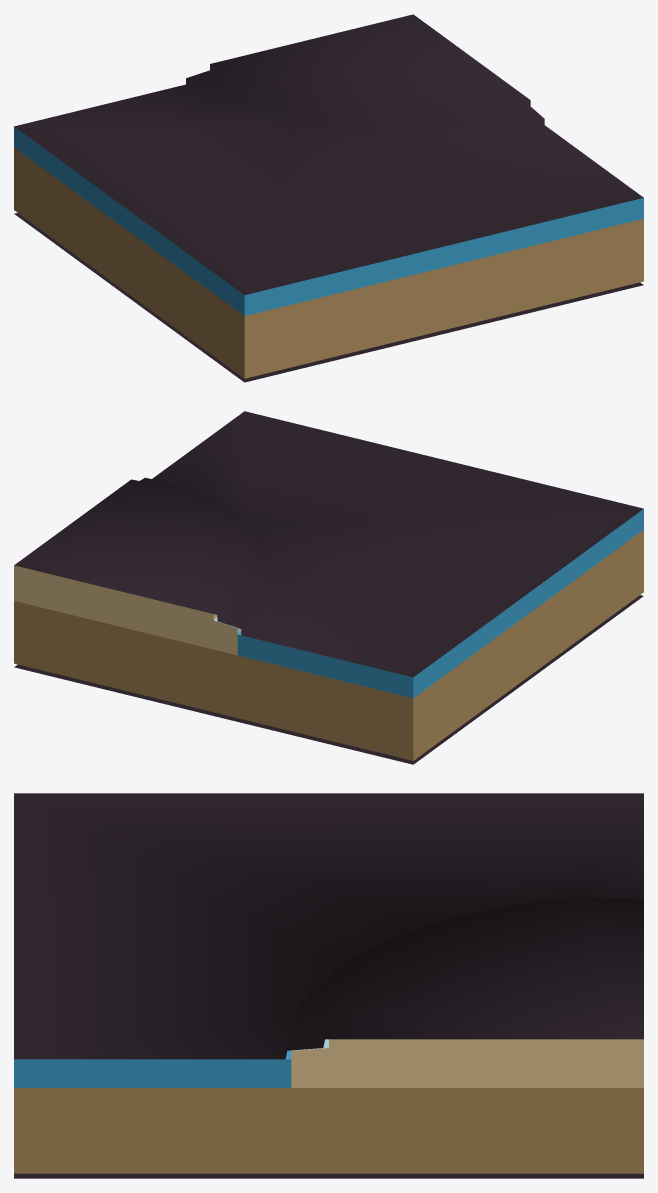
The model's file is SM_Island_Tile_ShoreCornerOuter.fbx.
3 views of the same model, one above another, from view 1: azimuth 30°, elevation 25°; view 2: azimuth 150°, elevation 25°; view 3: azimuth 270°, elevation 25° (orthographic). The views are drawn at different scales.
Visible parts, largest first — view 1: SM_Island_Tile_ShoreCornerOuter_Outline, SM_Island_Tile_ShoreCornerOuter; view 2: SM_Island_Tile_ShoreCornerOuter_Outline, SM_Island_Tile_ShoreCornerOuter; view 3: SM_Island_Tile_ShoreCornerOuter_Outline, SM_Island_Tile_ShoreCornerOuter.
Boxes of the visible parts, <box> form: SM_Island_Tile_ShoreCornerOuter_Outline: <box>14,14,643,382</box>; SM_Island_Tile_ShoreCornerOuter: <box>14,126,643,378</box>; SM_Island_Tile_ShoreCornerOuter_Outline: <box>14,411,643,764</box>; SM_Island_Tile_ShoreCornerOuter: <box>14,509,643,760</box>; SM_Island_Tile_ShoreCornerOuter_Outline: <box>14,793,643,1178</box>; SM_Island_Tile_ShoreCornerOuter: <box>14,1039,643,1173</box>.
Size of the model in its own units: 2 by 0.5062 by 2.
2 materials, 1 textured.
